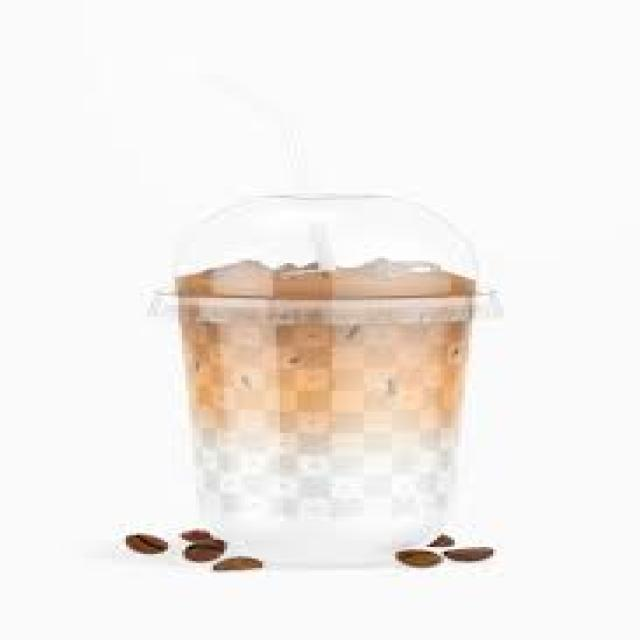bottle: (183, 299, 471, 563)
